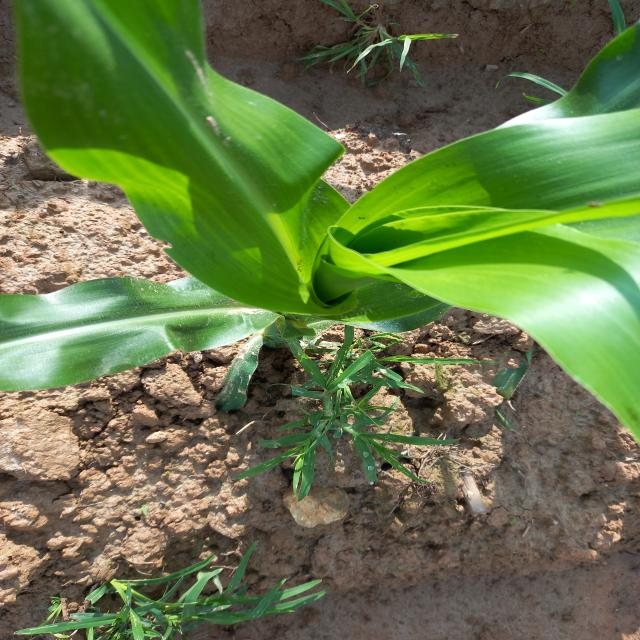maize: (10, 78, 640, 321)
weed: (307, 351, 463, 492), (62, 565, 311, 640), (326, 3, 459, 75)
